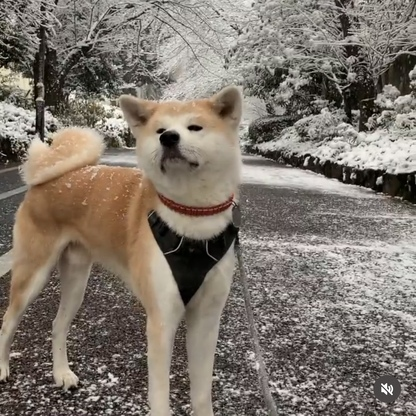akita: (1, 76, 264, 416)
